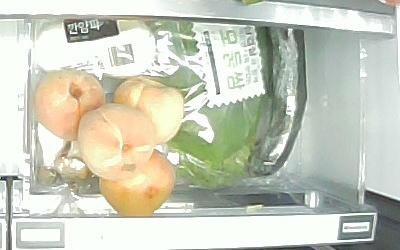peach: (77, 102, 156, 177), (98, 148, 175, 217), (36, 69, 107, 140), (113, 77, 183, 146)
